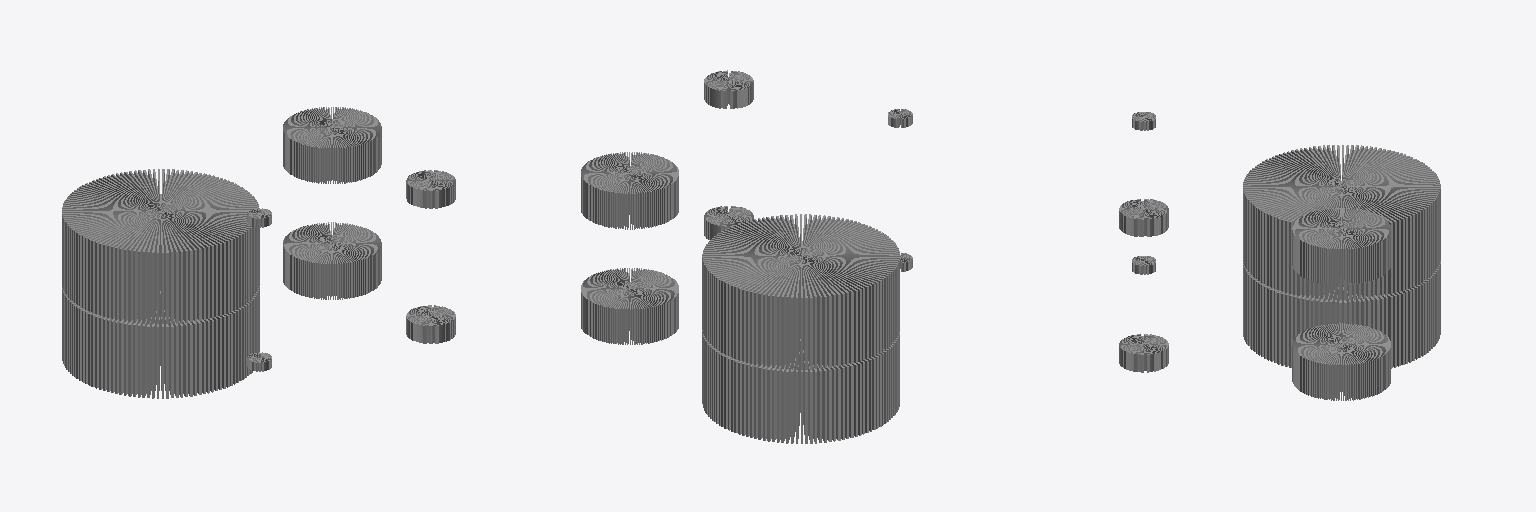
The model's file is siemens_star.obj.
3 views of the same model, side by side, from view 1: azimuth 30°, elevation 25°; view 2: azimuth 150°, elevation 25°; view 3: azimuth 270°, elevation 25° (orthographic).
Visible parts, largest first — view 1: Plane.005, Plane.001, Plane.004, Plane, Plane.006, Plane.002; view 2: Plane.005, Plane.001, Plane.004, Plane, Plane.006, Plane.002; view 3: Plane.005, Plane.001, Plane, Plane.004, Plane.002, Plane.006.
Part boxes in pixels (x1,y1,x2,y2): Plane.005: (62, 169, 259, 323); Plane.001: (62, 286, 259, 398); Plane.004: (283, 107, 381, 183); Plane: (283, 222, 381, 299); Plane.006: (406, 170, 455, 208); Plane.002: (406, 305, 455, 343); Plane.005: (702, 214, 899, 369); Plane.001: (702, 330, 899, 443); Plane.004: (581, 152, 678, 229); Plane: (581, 268, 678, 344); Plane.006: (704, 70, 753, 108); Plane.002: (704, 206, 753, 239); Plane.005: (1243, 145, 1440, 299); Plane.001: (1243, 261, 1440, 368); Plane: (1292, 323, 1390, 400); Plane.004: (1292, 208, 1390, 284); Plane.002: (1119, 334, 1168, 372); Plane.006: (1119, 199, 1168, 236).
Size of the model in its own units: 7 by 4.81 by 6.5.